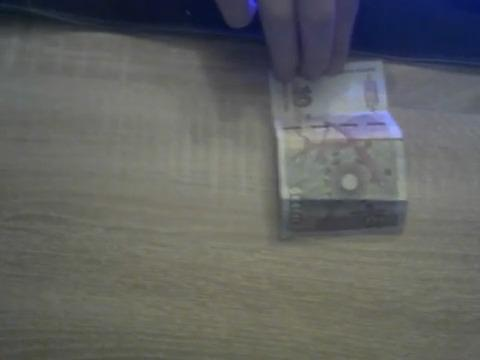10leva: (274, 62, 409, 241)
